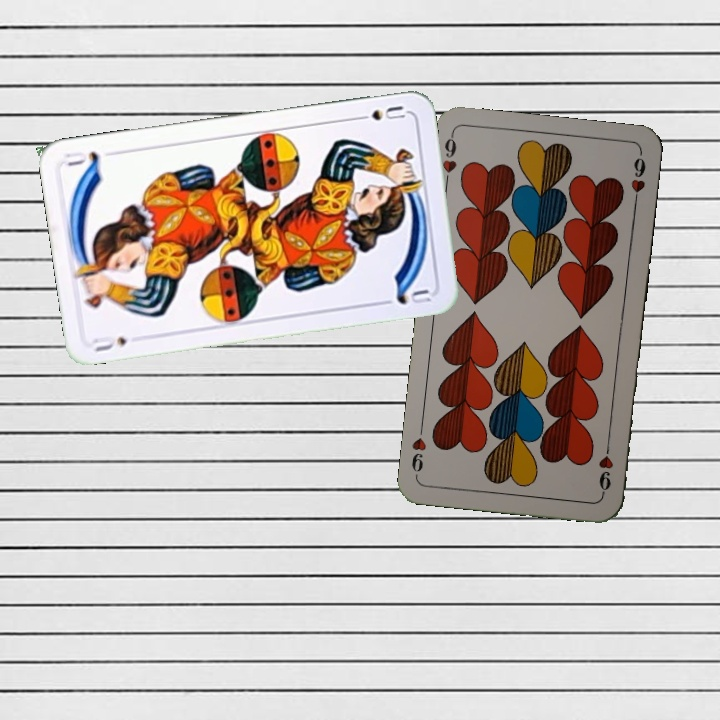H9: (594, 438, 616, 497), (438, 130, 459, 189)
SU: (350, 101, 408, 123), (89, 332, 130, 355)
